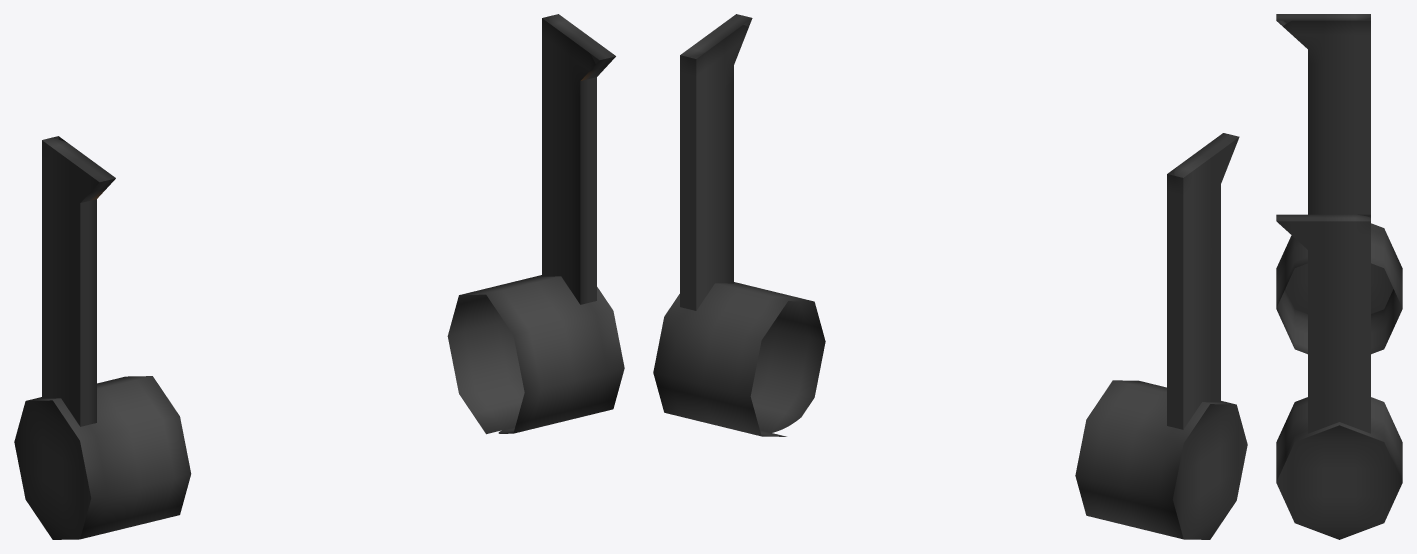
The model's file is pepperbox_hammer.obj.
3 views of the same model, side by side, from view 1: azimuth 30°, elevation 25°; view 2: azimuth 150°, elevation 25°; view 3: azimuth 270°, elevation 25° (orthographic). The views are drawn at different scales.
Visible parts, largest first — view 1: hammer; view 2: hammer; view 3: hammer.
Boxes of the visible parts, left/top/right/bottom form: hammer: left=14, top=14, right=624, bottom=539; hammer: left=653, top=14, right=1247, bottom=539; hammer: left=1276, top=14, right=1402, bottom=539.
Size of the model in its own units: 2 by 1.38 by 0.5.
